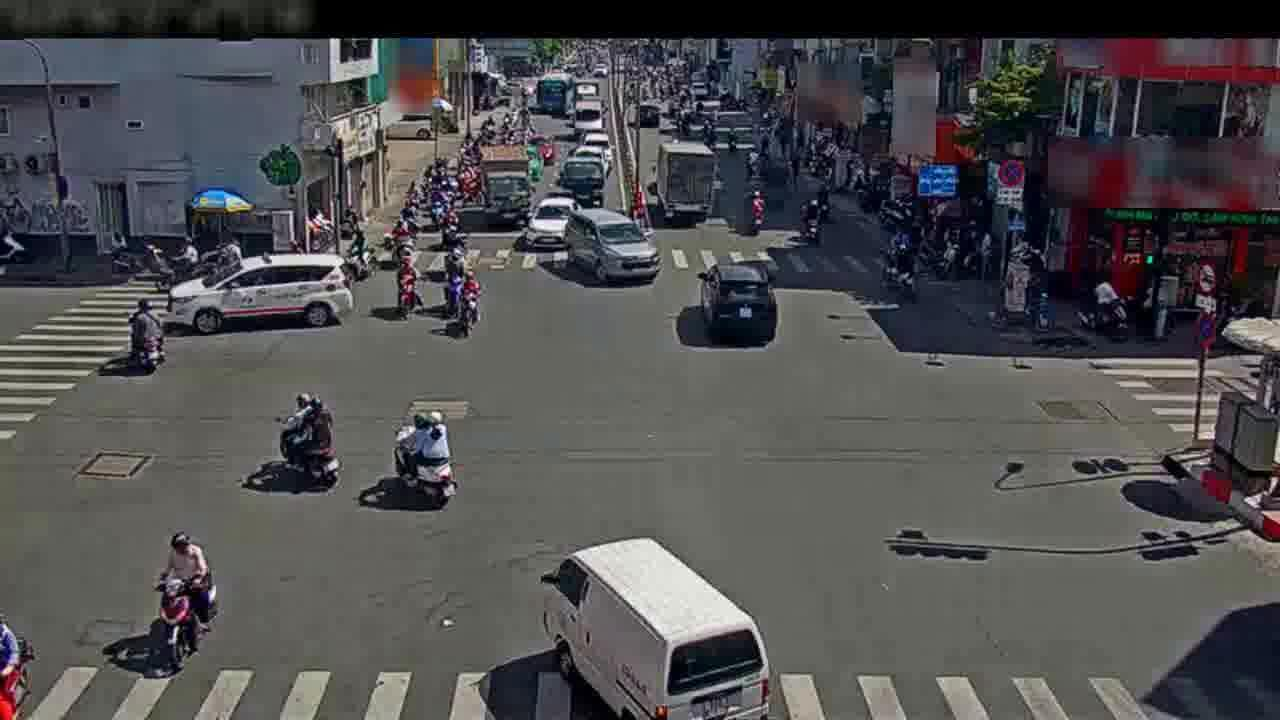14: (538, 527, 770, 720)
8: (655, 143, 716, 225), (480, 149, 533, 222)
container: (538, 527, 770, 720), (162, 251, 358, 337), (566, 205, 660, 282), (699, 253, 772, 338), (530, 197, 575, 245)
motorbike: (149, 525, 215, 678), (388, 402, 458, 508), (275, 394, 338, 492), (123, 296, 167, 377), (0, 617, 34, 712), (884, 239, 919, 307), (343, 224, 379, 288), (394, 248, 419, 326), (378, 216, 412, 271), (797, 188, 828, 241), (743, 183, 765, 241), (440, 256, 465, 306), (458, 271, 477, 336), (442, 225, 463, 252), (610, 394, 611, 396)
